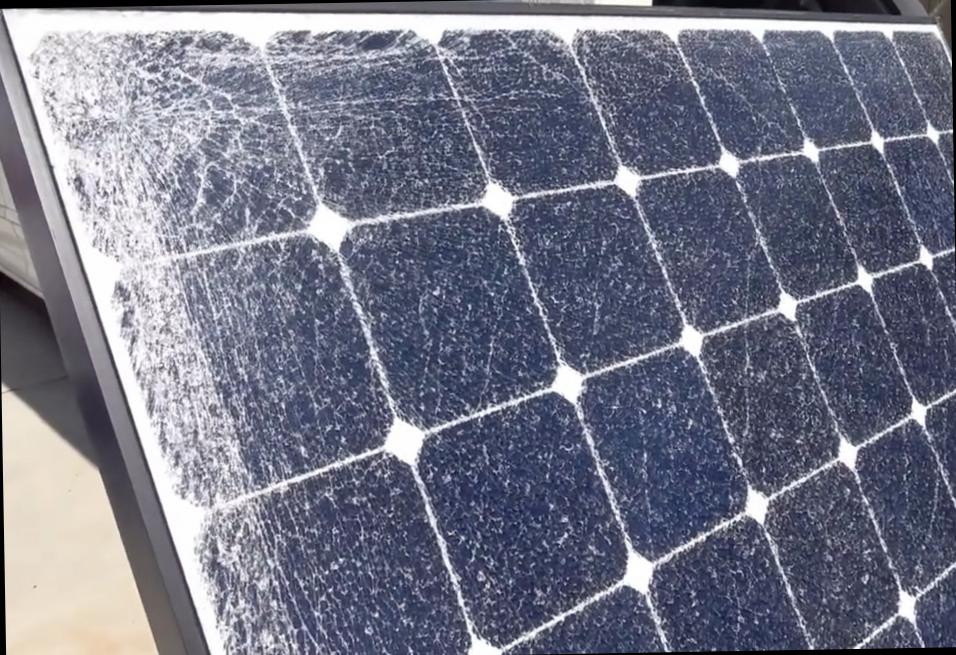Crack: (293, 20, 955, 654), (173, 227, 429, 503), (32, 20, 288, 232), (209, 500, 324, 652), (92, 234, 168, 322)
